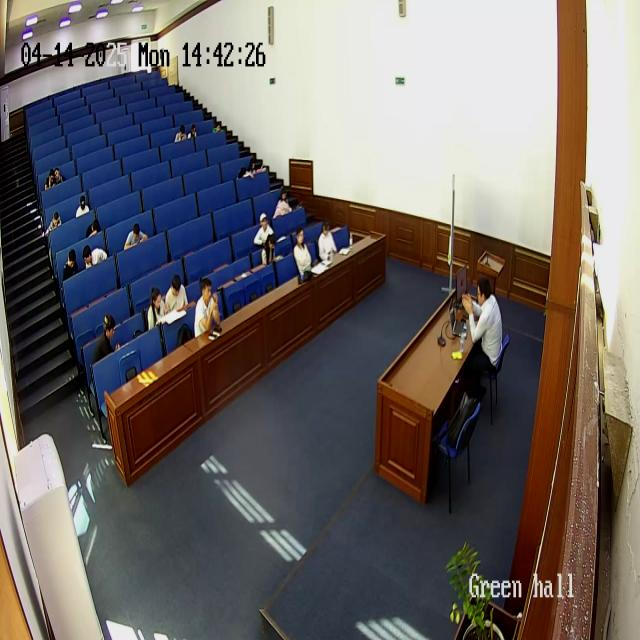person: (461, 273, 503, 401), (194, 276, 222, 338), (92, 313, 121, 367), (165, 273, 190, 318), (293, 225, 313, 277), (146, 285, 166, 331), (318, 219, 339, 261), (253, 212, 275, 248), (123, 222, 147, 252), (62, 245, 82, 281), (82, 242, 108, 268), (260, 234, 280, 266), (274, 188, 293, 217), (46, 209, 64, 236), (240, 159, 260, 180), (75, 193, 91, 219), (83, 218, 104, 237), (51, 167, 65, 185), (43, 171, 55, 191), (174, 126, 188, 143), (187, 124, 199, 140), (212, 121, 224, 136)
